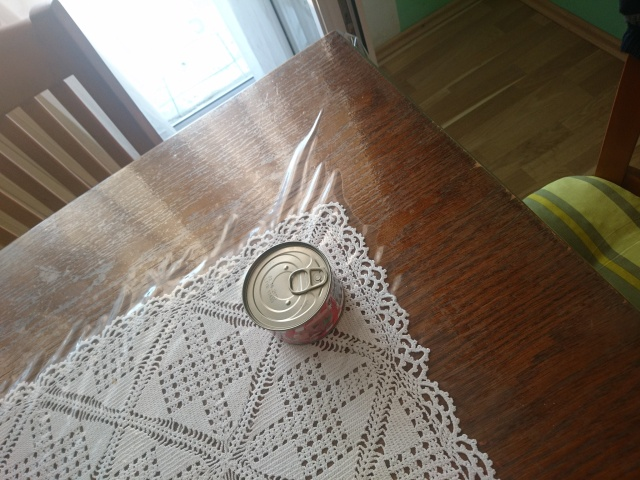Podravka Luncheon Meat 150g: (238, 238, 348, 349)
